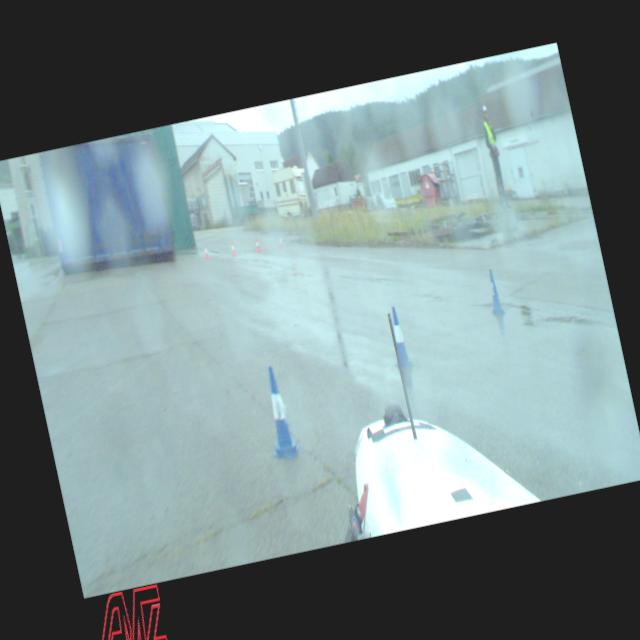blue_cone: (255, 363, 302, 461), (382, 304, 412, 368), (482, 268, 506, 316)
orange_cone: (202, 243, 210, 260), (229, 240, 236, 256), (254, 238, 261, 252), (278, 235, 284, 248)
